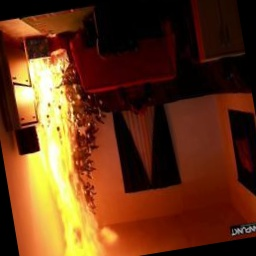fire: (0, 40, 132, 256)
